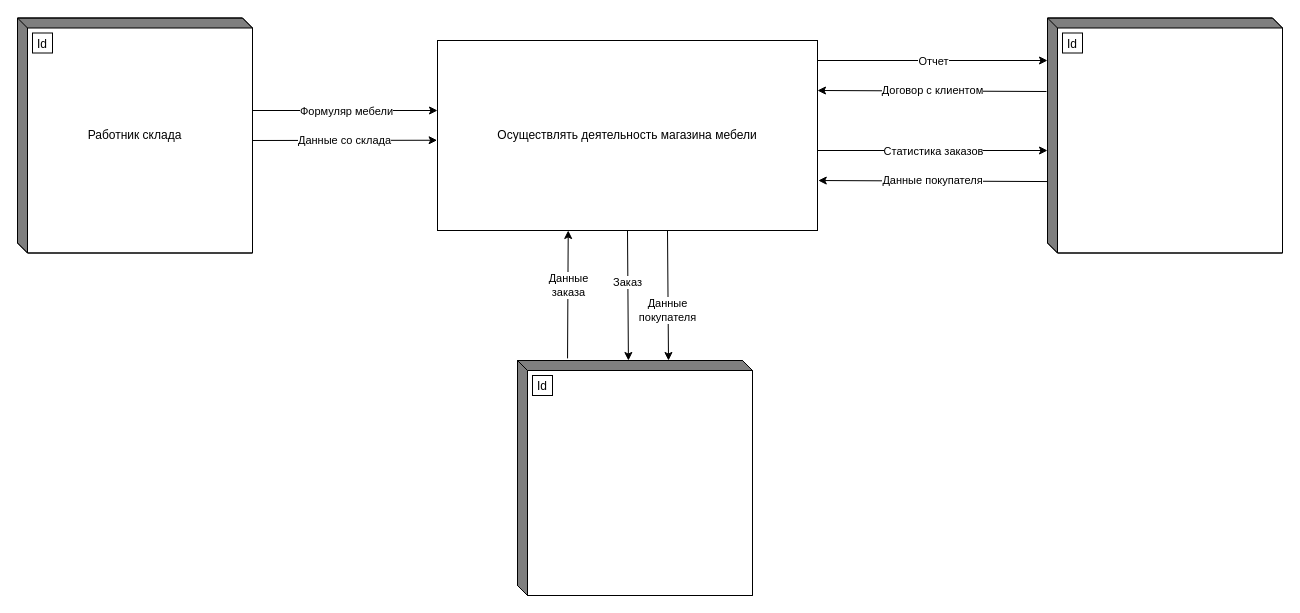
This 1300x613 diagram has some shape labels left out. Here are the shapes that lost their labels. From the top down, the centre of each, then its label:
[1164,135]: Менеджер
[634,478]: Поставщик
